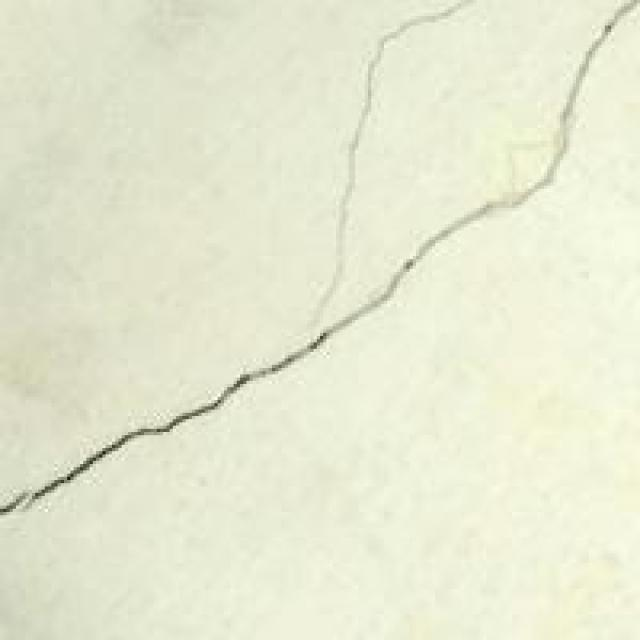Crack: (0, 45, 595, 567)
